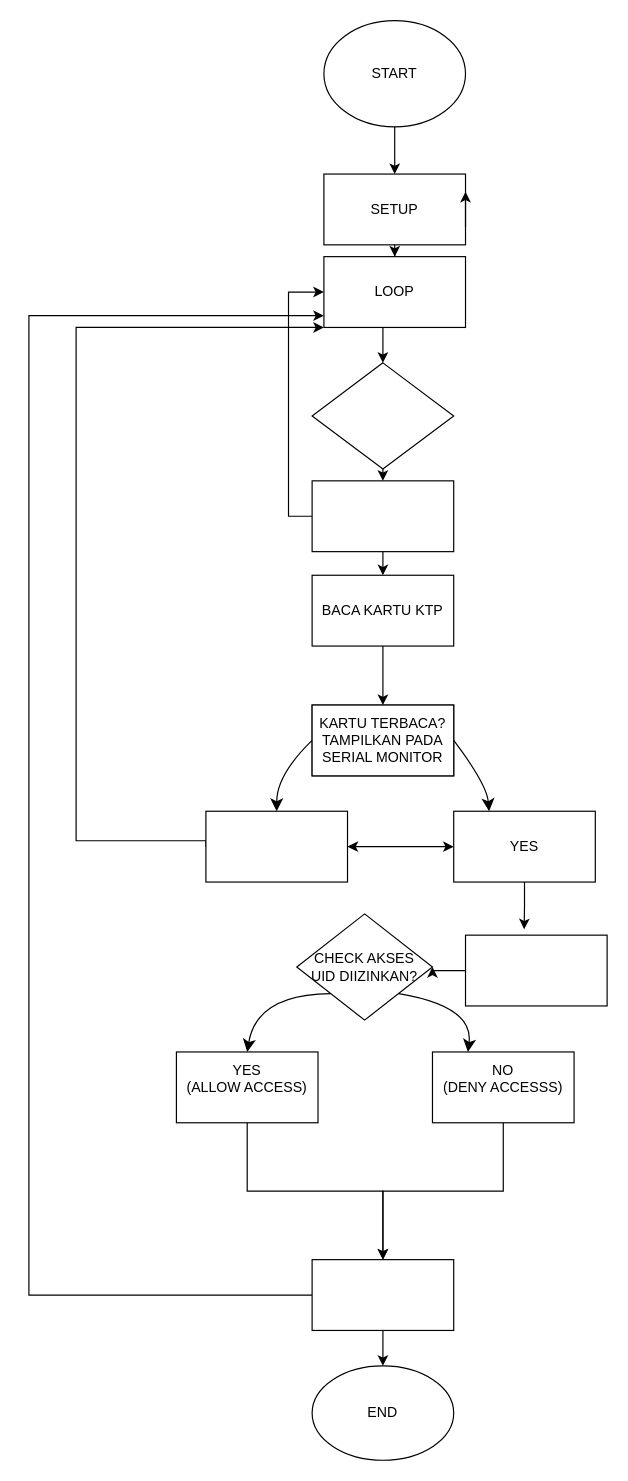
The diagram is 628 pixels wide and 1481 high, and some of its shapes have lost their labels. The shapes that lost their labels are listed below. From the top down, each one's centre as x and y in pixels, then its label:
the point at 382,415: APAKAH ADA KARTU KTP
the point at 382,516: YES/NO
the point at 276,846: NO
the point at 535,970: BACA UID KARTU
the point at 382,1294: DELAY
